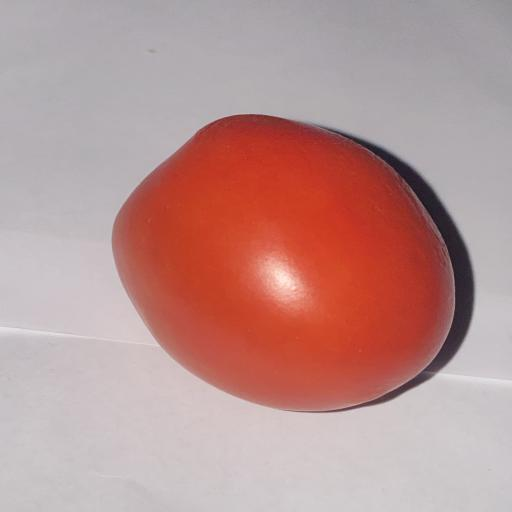overipe: (113, 115, 454, 411)
